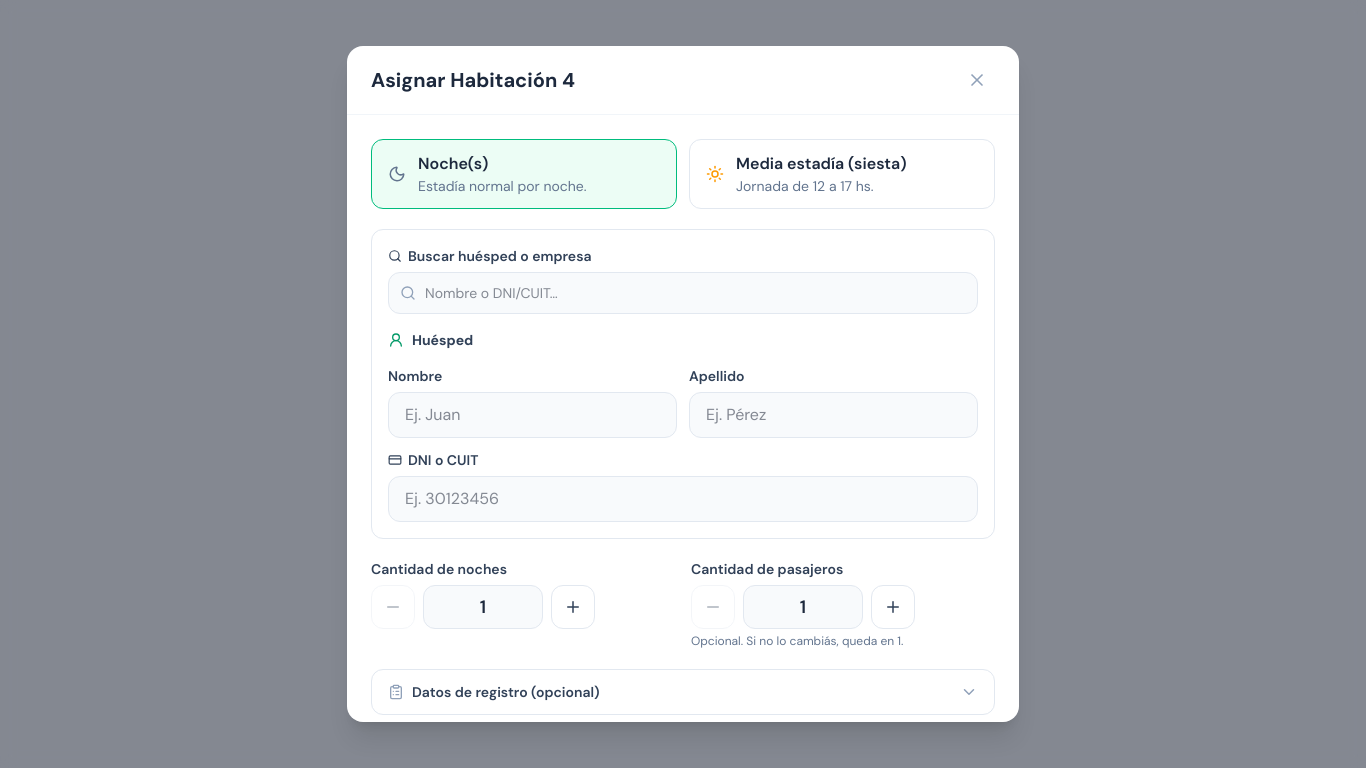
Test: WalkInModal: el botón final dice noches y salida › + y − mueven el botón con las noches
Step 1. Click the button named "Cantidad de noches: sumar 1" → (573, 607), box [551,585,595,629]
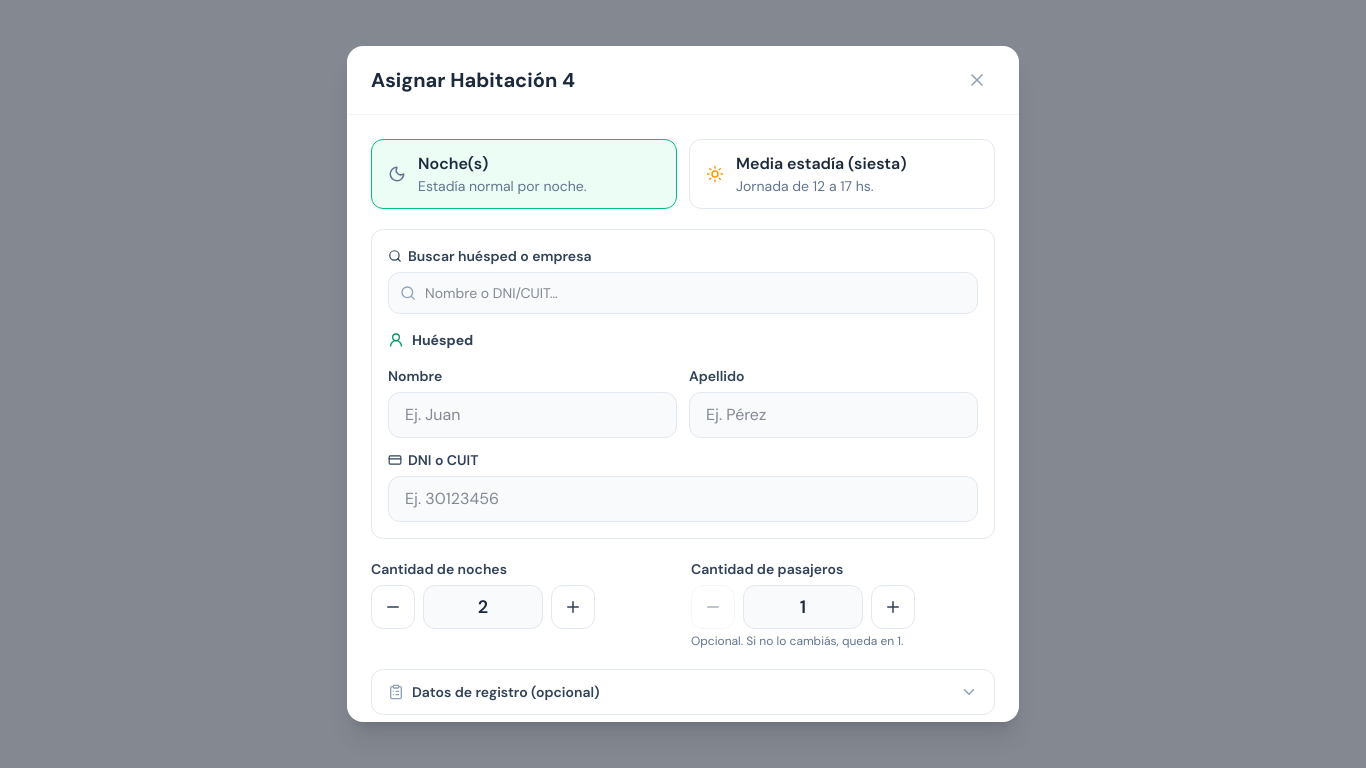
Step 2. Click the button named "Cantidad de noches: sumar 1" → (573, 607), box [551,585,595,629]
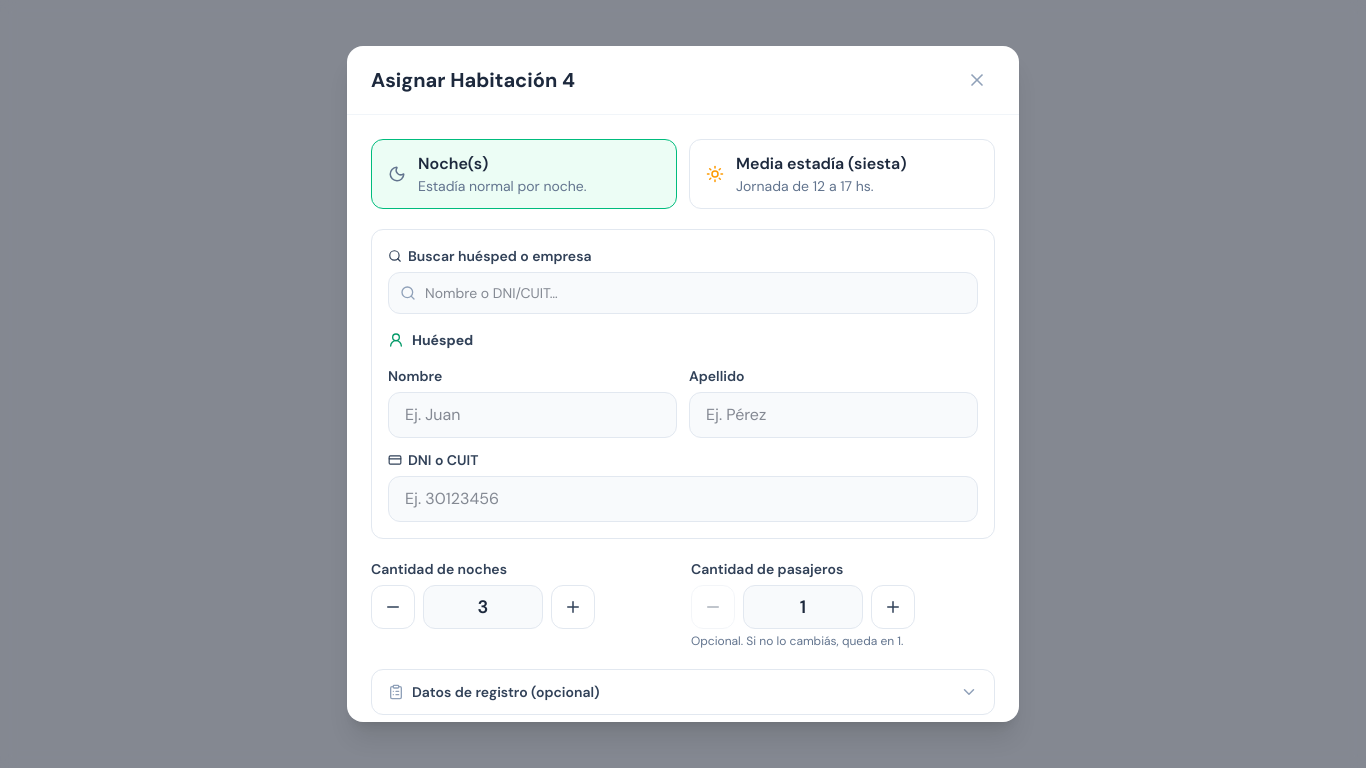
Expected: the field labelled "Cantidad de noches" holds "3", [423,585,543,629]
Step 3. Click the button named "Cantidad de noches: restar 1" → (393, 607), box [371,585,415,629]
(page scrolled)
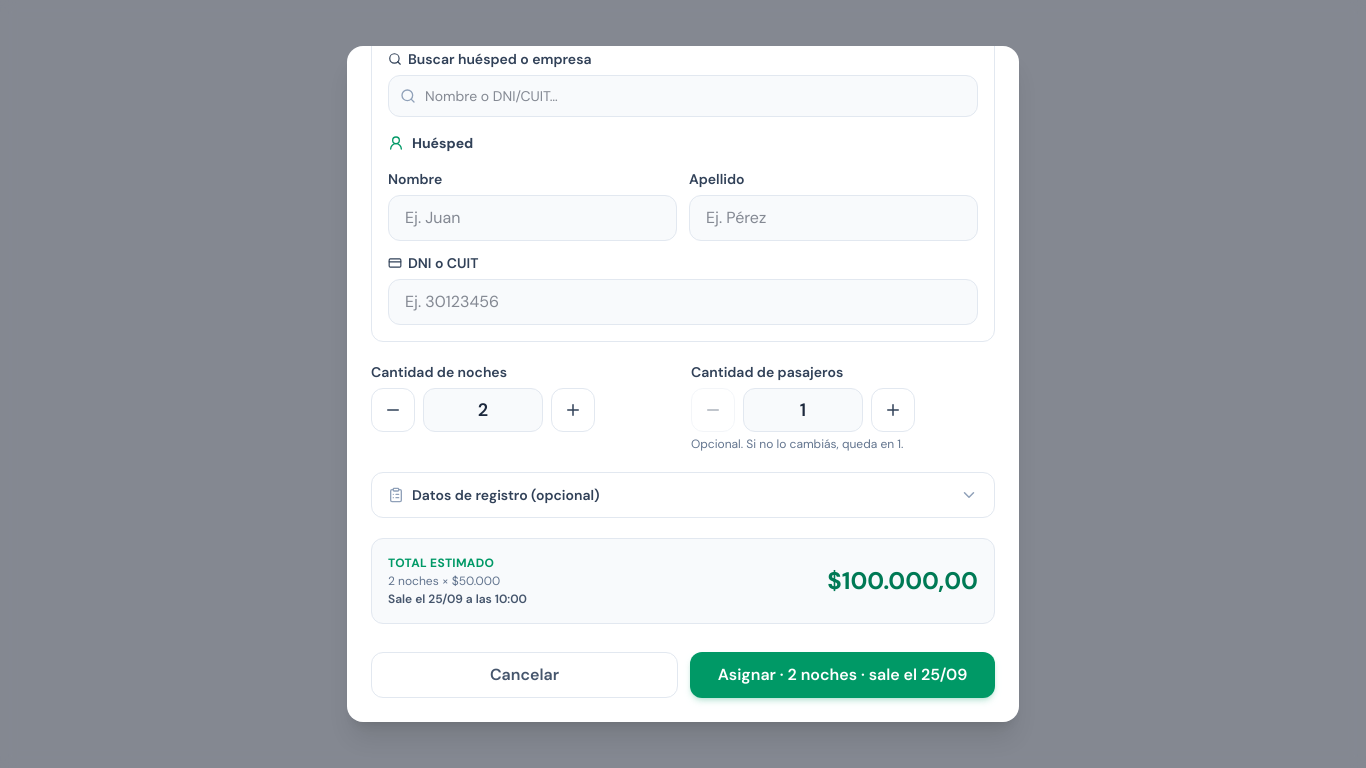
Expected: the button "Asignar · 2 noches · sale el 25/09" is shown, [690,652,995,698]
